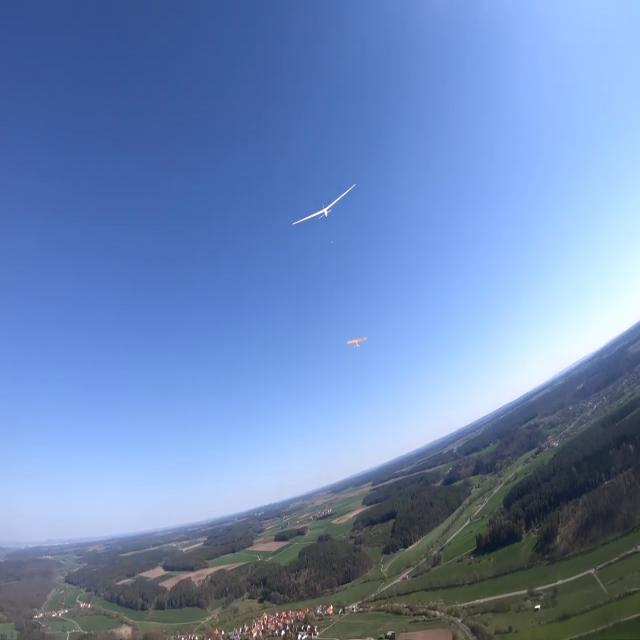iha: (345, 334, 369, 350), (322, 184, 324, 229)
